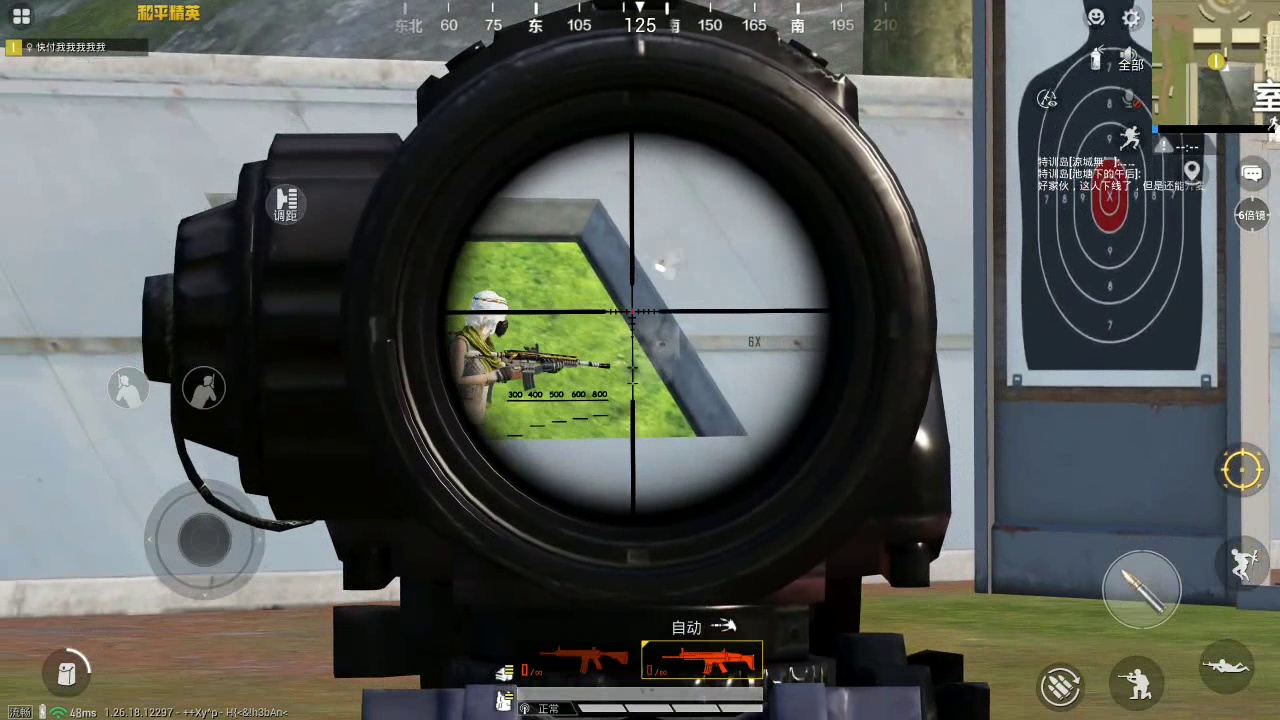enemy: (445, 287, 512, 432)
